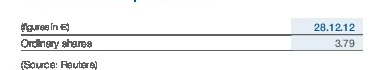table: (0, 0, 383, 70)
